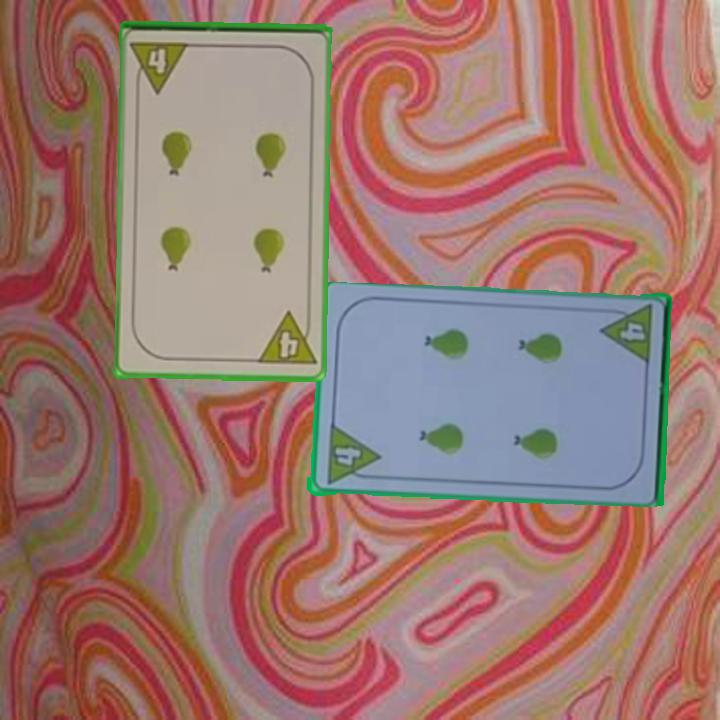4p: (254, 308, 319, 369), (322, 423, 381, 488), (596, 302, 655, 367), (127, 38, 192, 95)
